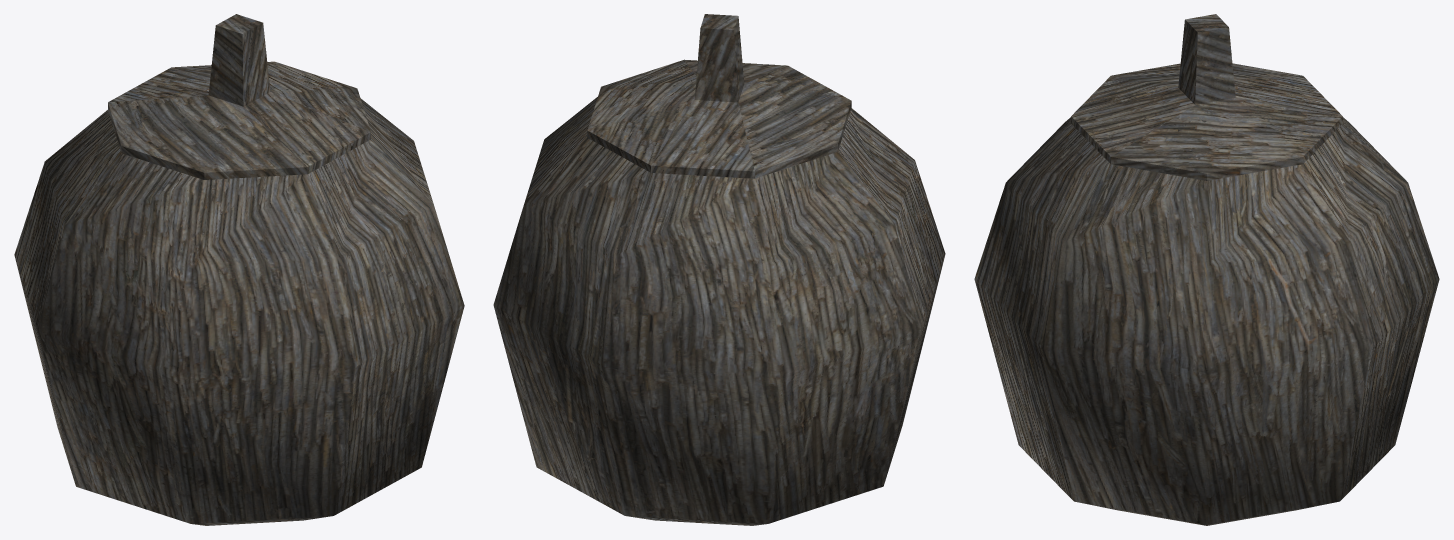
The model's file is SM_Coconut.fbx.
3 renders of one model, left to right at view 1: azimuth 30°, elevation 25°; view 2: azimuth 150°, elevation 25°; view 3: azimuth 270°, elevation 25°, orthographic.
Parts seen in each view (by area): view 1: Coconut; view 2: Coconut; view 3: Coconut.
Part boxes in pixels (x1,y1,x2,y2): Coconut: (14, 14, 464, 525); Coconut: (493, 14, 945, 525); Coconut: (974, 14, 1439, 525).
Bounding box in the file's own units: 11.41 × 12.15 × 11.41.
